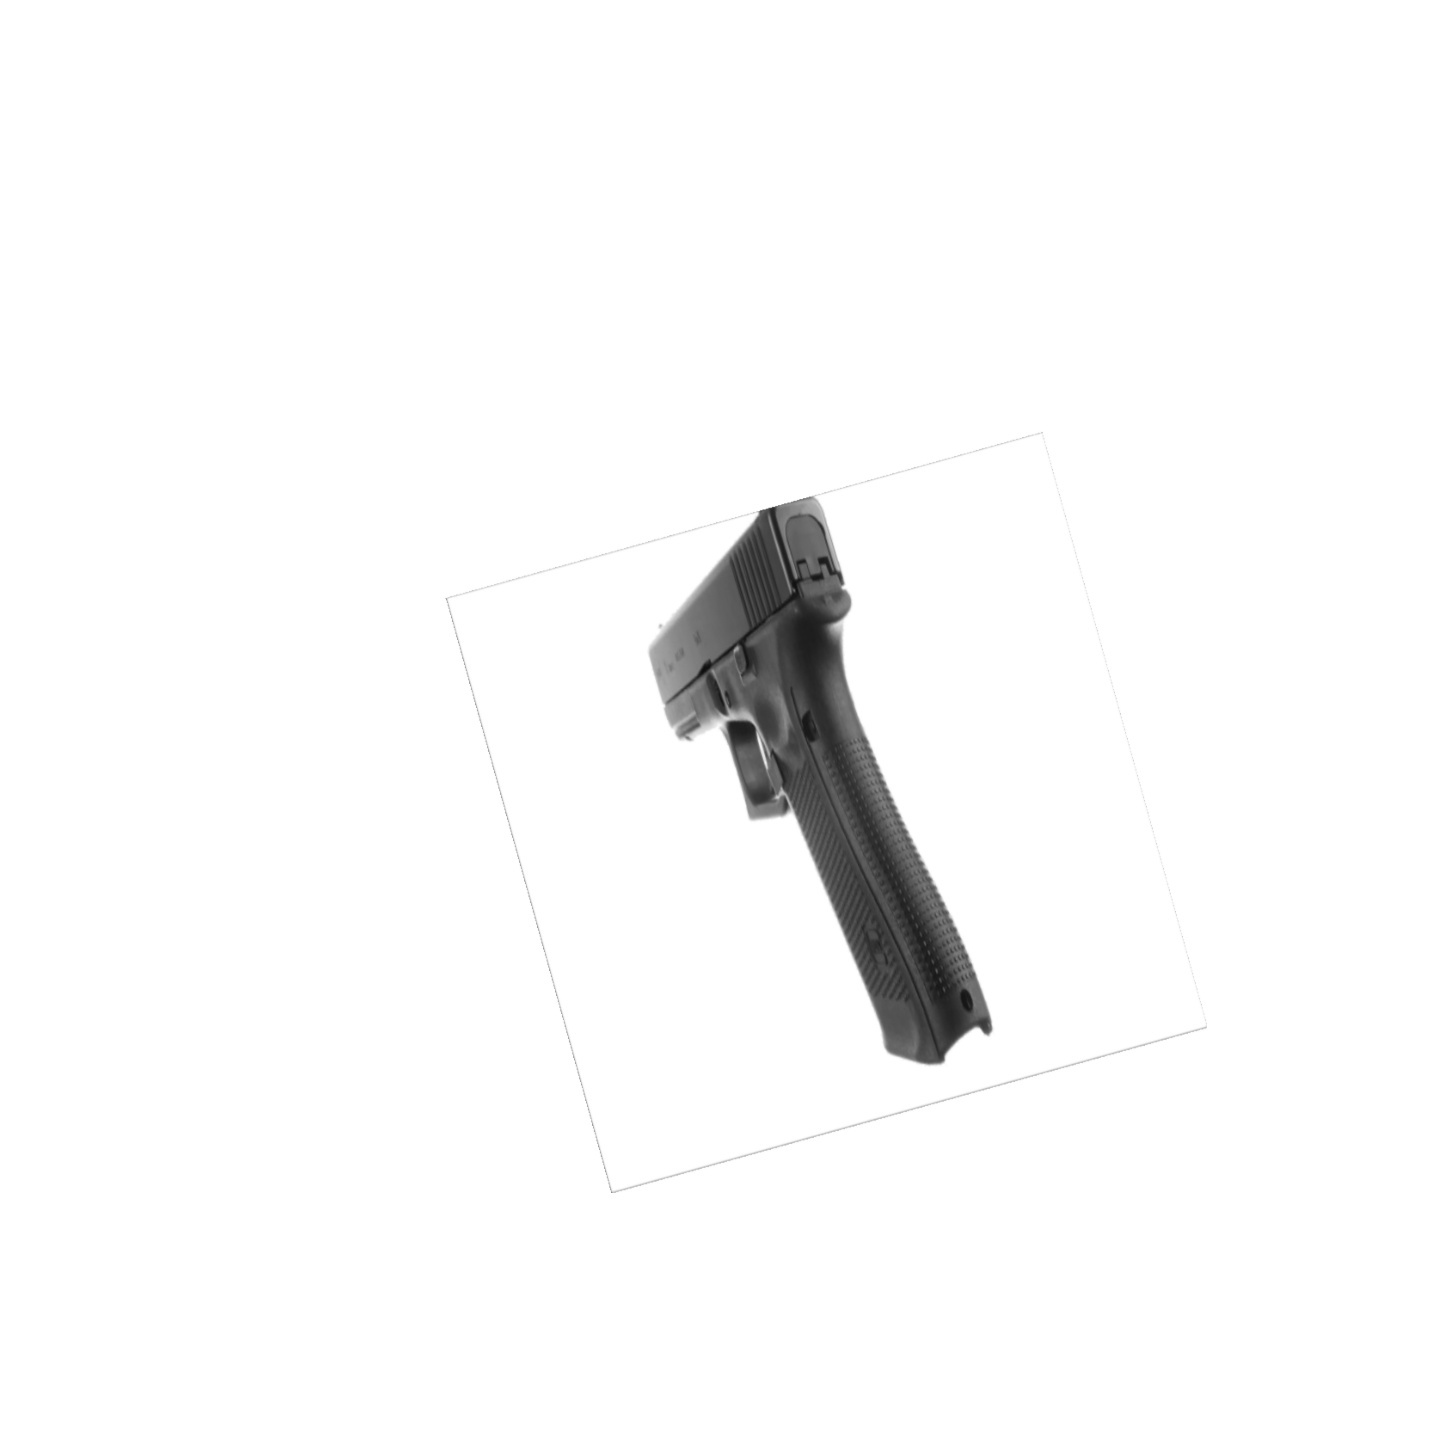gun: (637, 493, 1002, 1069)
